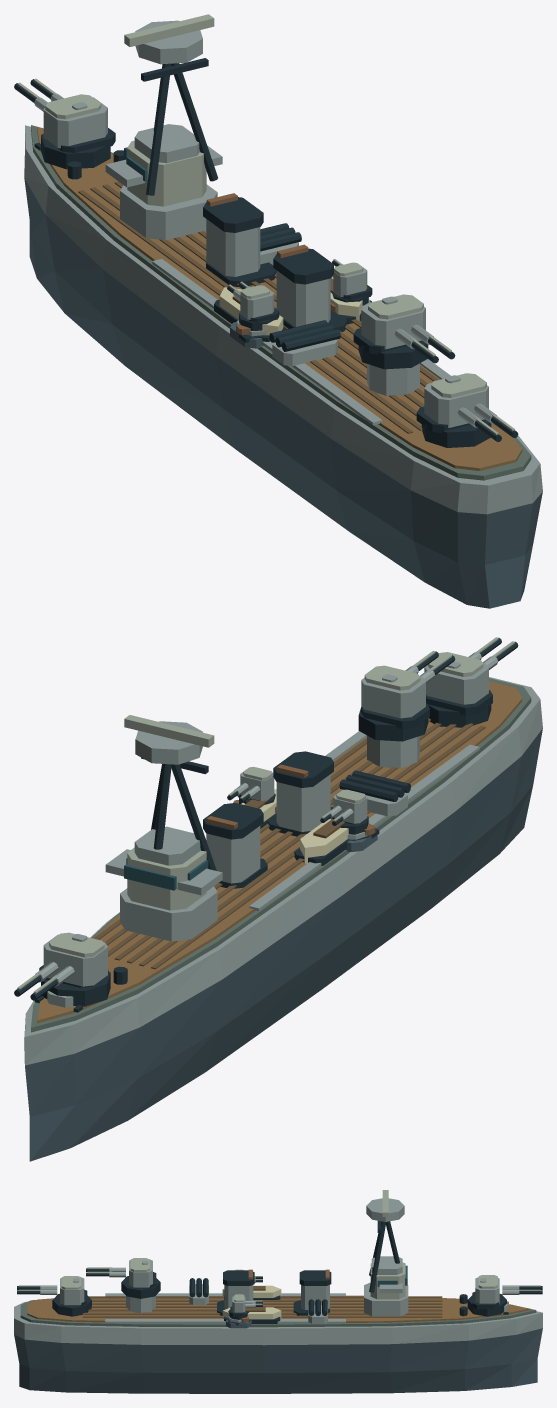
File: historic-ning-hai.glb
3 renders of one model, top to bottom at view 1: azimuth 30°, elevation 25°; view 2: azimuth 150°, elevation 25°; view 3: azimuth 270°, elevation 25°, orthographic. The views are drawn at different scales.
Visible parts, largest first — view 1: historic-ning-hai-historic-ning-hai-geometry, historic-ning-hai-part_bridge.049-geometry, historic-ning-hai-turret_main_0.039-geometry, historic-ning-hai-turret_main_1.038-geometry, historic-ning-hai-turret_main_2.034-geometry, historic-ning-hai-historic_funnel_0.050-geometry, historic-ning-hai-historic_funnel_1.026-geometry, historic-ning-hai-torpedo_bank_0.012-geometry, historic-ning-hai-turret_aa_aa-port.051-geometry, historic-ning-hai-turret_aa_aa-starboard.049-geometry, historic-ning-hai-torpedo_bank_1.011-geometry; view 2: historic-ning-hai-historic-ning-hai-geometry, historic-ning-hai-part_bridge.049-geometry, historic-ning-hai-turret_main_1.038-geometry, historic-ning-hai-turret_main_2.034-geometry, historic-ning-hai-turret_main_0.039-geometry, historic-ning-hai-historic_funnel_1.026-geometry, historic-ning-hai-historic_funnel_0.050-geometry, historic-ning-hai-torpedo_bank_0.012-geometry, historic-ning-hai-turret_aa_aa-port.051-geometry, historic-ning-hai-turret_aa_aa-starboard.049-geometry; view 3: historic-ning-hai-historic-ning-hai-geometry, historic-ning-hai-part_bridge.049-geometry, historic-ning-hai-turret_main_0.039-geometry, historic-ning-hai-turret_main_1.038-geometry, historic-ning-hai-turret_main_2.034-geometry, historic-ning-hai-historic_funnel_0.050-geometry, historic-ning-hai-historic_funnel_1.026-geometry, historic-ning-hai-turret_aa_aa-starboard.049-geometry, historic-ning-hai-torpedo_bank_0.012-geometry, historic-ning-hai-torpedo_bank_1.011-geometry.
Part boxes in pixels (x1,y1,x2,y2): historic-ning-hai-historic-ning-hai-geometry: [24, 125, 542, 608]; historic-ning-hai-part_bridge.049-geometry: [105, 14, 222, 240]; historic-ning-hai-turret_main_0.039-geometry: [14, 78, 115, 169]; historic-ning-hai-turret_main_1.038-geometry: [353, 294, 455, 369]; historic-ning-hai-turret_main_2.034-geometry: [416, 373, 518, 447]; historic-ning-hai-historic_funnel_0.050-geometry: [203, 193, 276, 286]; historic-ning-hai-historic_funnel_1.026-geometry: [273, 244, 347, 331]; historic-ning-hai-torpedo_bank_0.012-geometry: [269, 320, 340, 365]; historic-ning-hai-turret_aa_aa-port.051-geometry: [227, 281, 279, 330]; historic-ning-hai-turret_aa_aa-starboard.049-geometry: [332, 259, 372, 305]; historic-ning-hai-torpedo_bank_1.011-geometry: [260, 223, 301, 264]; historic-ning-hai-historic-ning-hai-geometry: [24, 677, 542, 1161]; historic-ning-hai-part_bridge.049-geometry: [105, 715, 222, 941]; historic-ning-hai-turret_main_1.038-geometry: [358, 651, 455, 741]; historic-ning-hai-turret_main_2.034-geometry: [424, 637, 518, 727]; historic-ning-hai-turret_main_0.039-geometry: [14, 932, 110, 1006]; historic-ning-hai-historic_funnel_1.026-geometry: [267, 751, 333, 836]; historic-ning-hai-historic_funnel_0.050-geometry: [203, 803, 267, 888]; historic-ning-hai-torpedo_bank_0.012-geometry: [339, 770, 410, 816]; historic-ning-hai-turret_aa_aa-port.051-geometry: [320, 789, 368, 834]; historic-ning-hai-turret_aa_aa-starboard.049-geometry: [227, 766, 275, 804]; historic-ning-hai-historic-ning-hai-geometry: [14, 1285, 542, 1393]; historic-ning-hai-part_bridge.049-geometry: [364, 1190, 408, 1316]; historic-ning-hai-turret_main_0.039-geometry: [467, 1275, 542, 1316]; historic-ning-hai-turret_main_1.038-geometry: [86, 1258, 160, 1298]; historic-ning-hai-turret_main_2.034-geometry: [17, 1276, 91, 1316]; historic-ning-hai-historic_funnel_0.050-geometry: [293, 1269, 331, 1315]; historic-ning-hai-historic_funnel_1.026-geometry: [217, 1269, 254, 1315]; historic-ning-hai-turret_aa_aa-starboard.049-geometry: [228, 1294, 262, 1319]; historic-ning-hai-torpedo_bank_0.012-geometry: [189, 1278, 208, 1304]; historic-ning-hai-torpedo_bank_1.011-geometry: [308, 1299, 327, 1323].
Size of the model in its own units: 0.6929 by 1.63 by 4.32.
